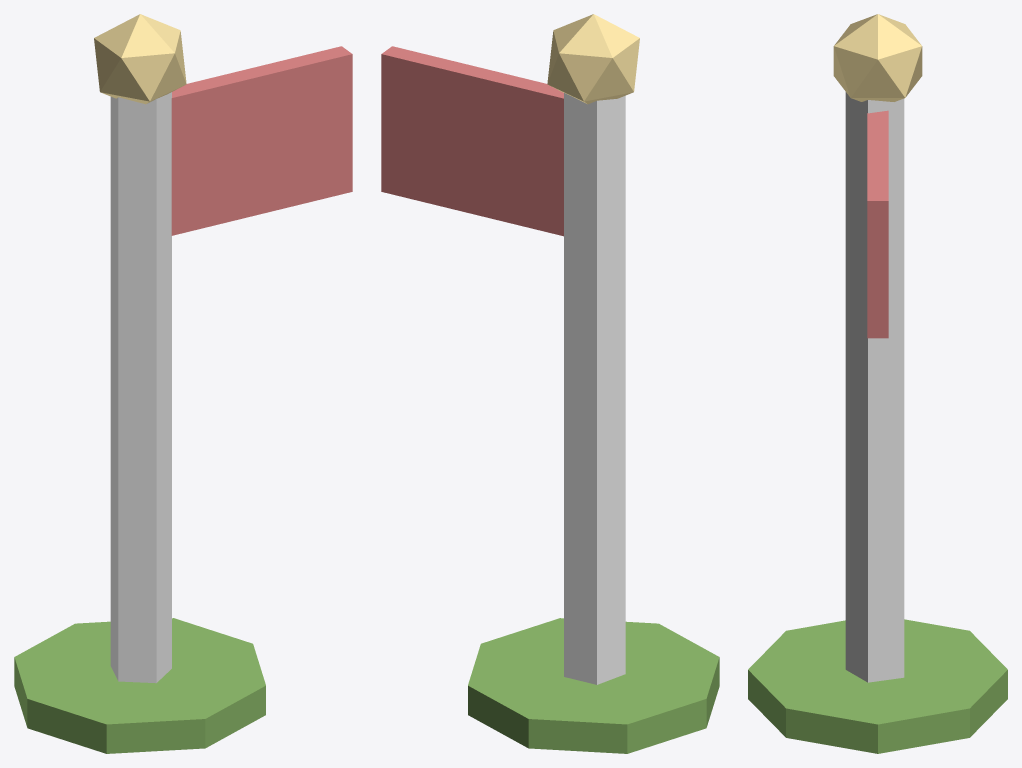
The model's file is golf-flag.glb.
The picture shows the model from 3 angles, left to right: view 1: azimuth 30°, elevation 25°; view 2: azimuth 150°, elevation 25°; view 3: azimuth 270°, elevation 25°; orthographic projection.
Parts seen in each view (by area): view 1: park-golf-flag; view 2: park-golf-flag; view 3: park-golf-flag.
Boxes of the visible parts, x1=… form: park-golf-flag: x1=14, y1=14, x2=352, y2=753; park-golf-flag: x1=381, y1=14, x2=719, y2=753; park-golf-flag: x1=748, y1=14, x2=1007, y2=753.
Bounding box in the file's own units: 0.34 × 0.698 × 0.24.
